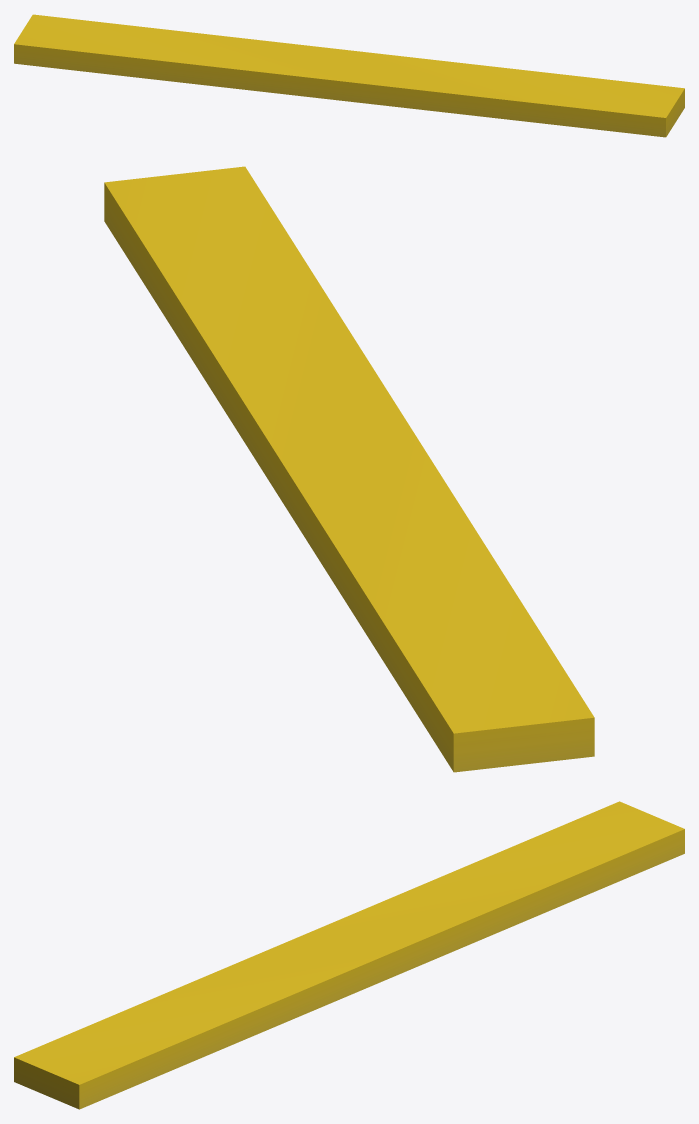
The model's file is plank.fbx.
3 views of the same model, one above another, from view 1: azimuth 30°, elevation 25°; view 2: azimuth 150°, elevation 25°; view 3: azimuth 270°, elevation 25° (orthographic). The views are drawn at different scales.
Parts seen in each view (by area): view 1: plank; view 2: plank; view 3: plank.
Boxes of the visible parts, x1,y1,x2,y2 form: plank: (14, 14, 684, 137); plank: (104, 166, 594, 772); plank: (14, 801, 684, 1109).
Size of the model in its own units: 0.00783 by 0.000318 by 0.00783.
1 material, 1 textured.
